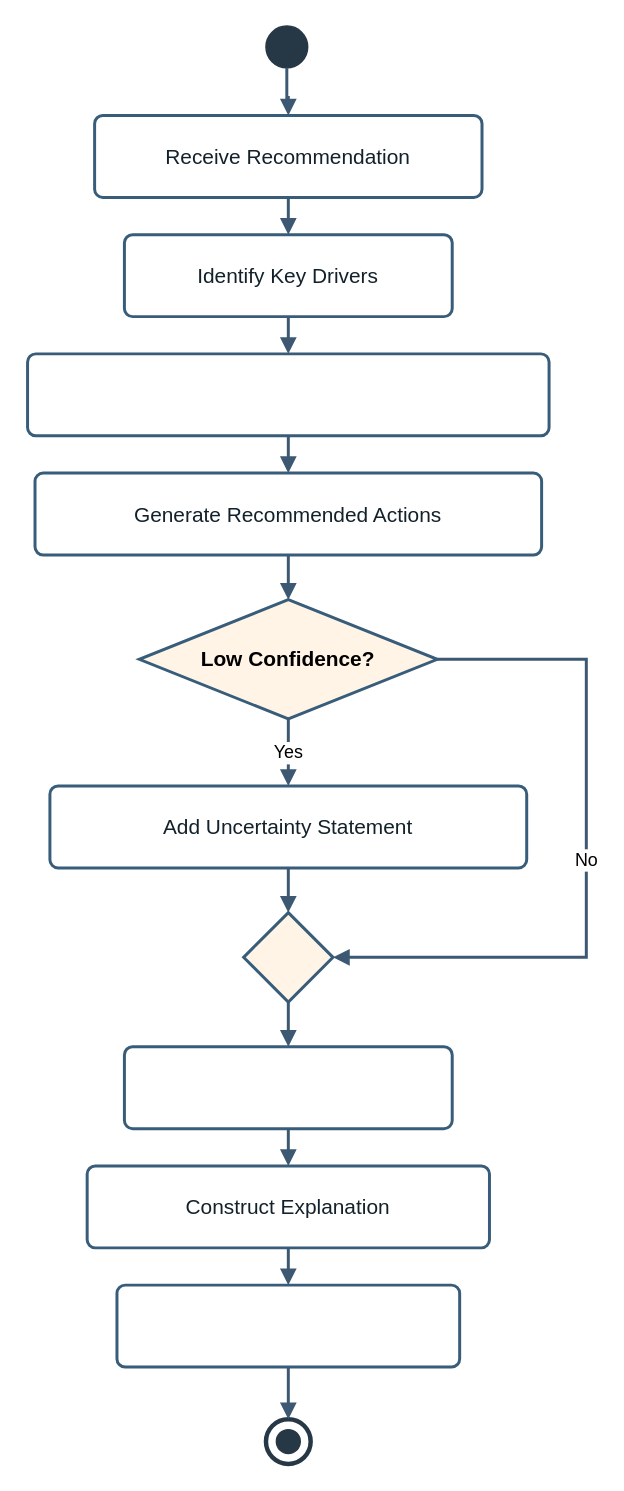
The diagram is 624 pixels wide and 1491 high, and some of its shapes have lost their labels. Each missing label, with the centre of its shape:
Generate Business Implications: the point at 287,394
Generate Caveats: the point at 287,1086
Return Explanation: the point at 287,1325
